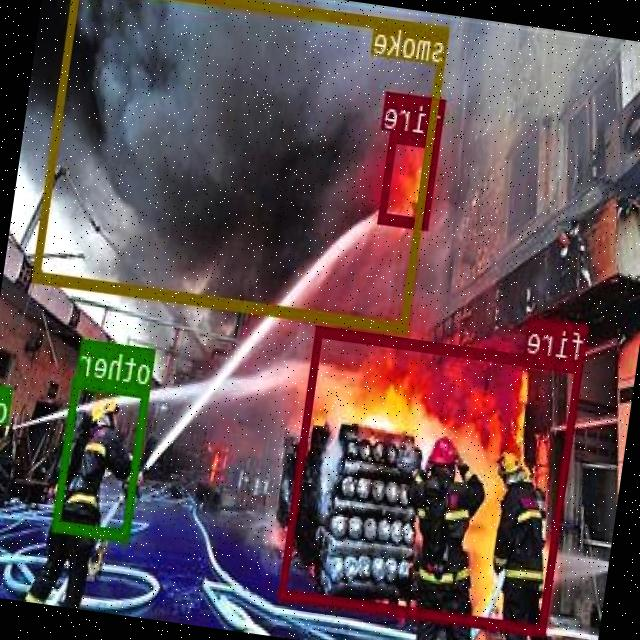fire: (279, 325, 584, 636), (380, 132, 442, 230)
smoke: (33, 0, 451, 333)
